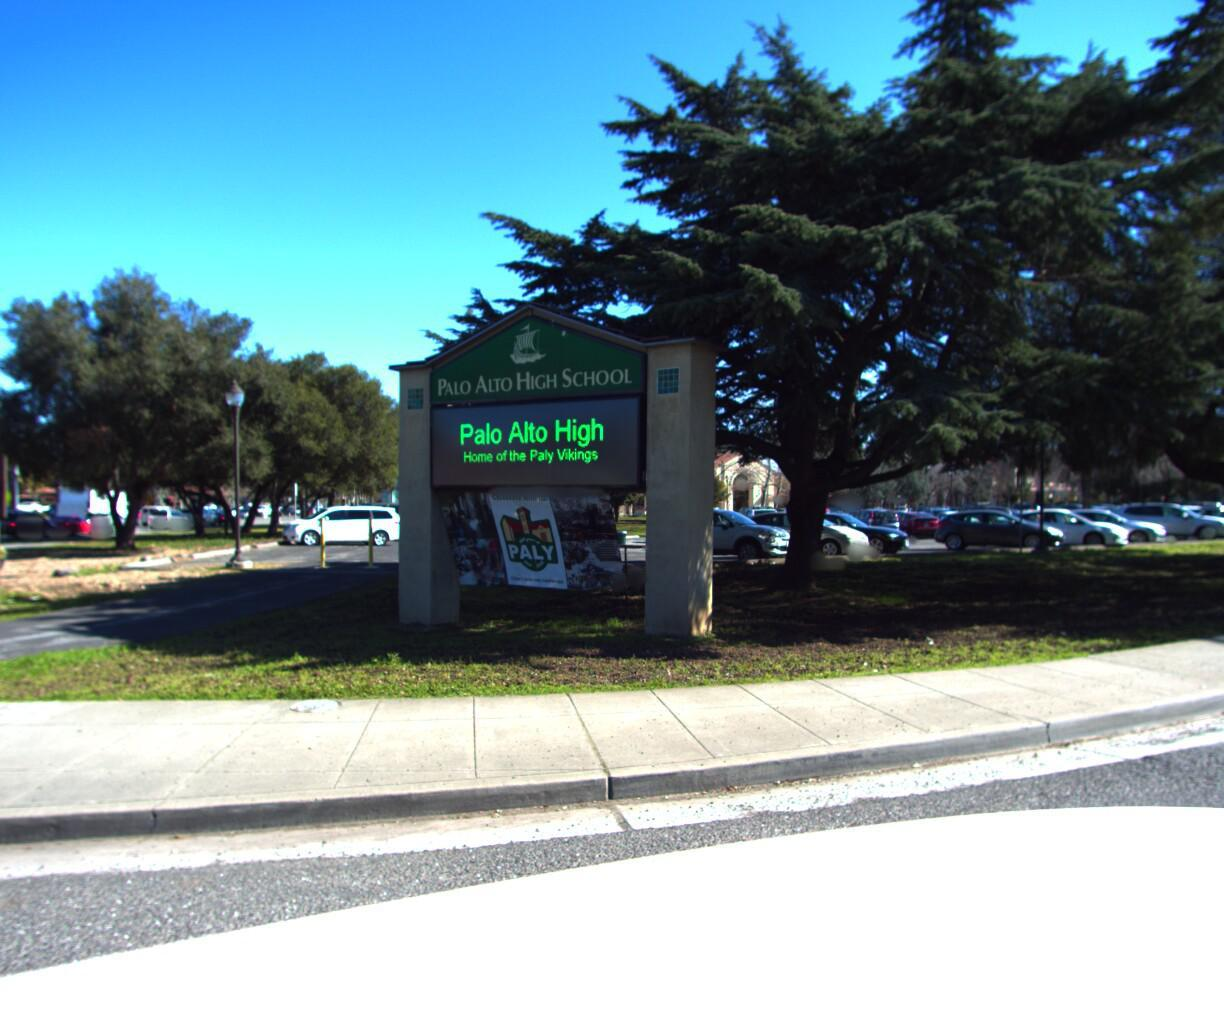car: (271, 507, 402, 549), (38, 515, 102, 540), (0, 518, 56, 546), (79, 514, 136, 536), (143, 507, 191, 531)
truck: (45, 485, 139, 536), (175, 503, 221, 528)
